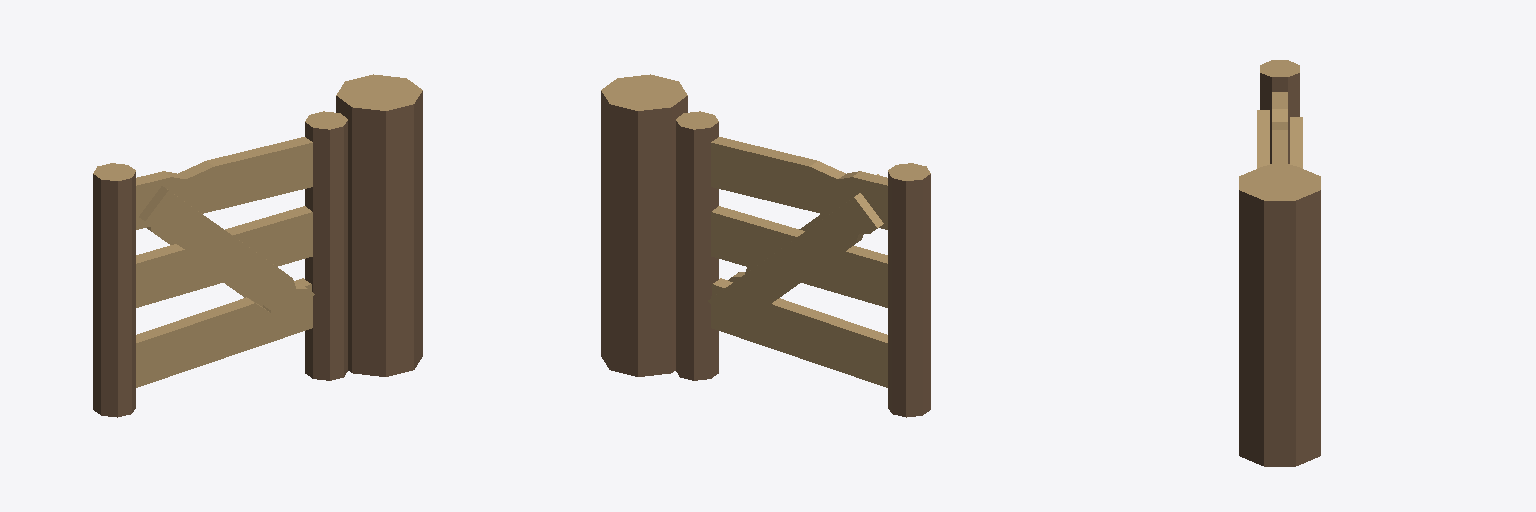
The model's file is Hilly_Prop_Fence_Gate_1.obj.
The picture shows the model from 3 angles: view 1: azimuth 30°, elevation 25°; view 2: azimuth 150°, elevation 25°; view 3: azimuth 270°, elevation 25°; orthographic projection.
Visible parts, largest first — view 1: object3, object5, object1, object6, object8, object4, object2; view 2: object3, object5, object1, object8, object6, object7, object2; view 3: object3, object5, object8, object4, object7.
Part boxes in pixels (left/top/right/bottom): object3: left=336, top=74, right=422, bottom=376; object5: left=93, top=163, right=135, bottom=417; object1: left=305, top=111, right=347, bottom=380; object6: left=136, top=278, right=312, bottom=387; object8: left=136, top=137, right=312, bottom=229; object4: left=139, top=186, right=314, bottom=324; object2: left=136, top=206, right=312, bottom=307; object3: left=601, top=74, right=687, bottom=376; object5: left=888, top=163, right=930, bottom=417; object1: left=676, top=111, right=718, bottom=380; object8: left=711, top=137, right=887, bottom=229; object6: left=711, top=278, right=887, bottom=387; object7: left=708, top=193, right=883, bottom=331; object2: left=711, top=206, right=887, bottom=307; object3: left=1239, top=166, right=1320, bottom=466; object5: left=1260, top=60, right=1299, bottom=163; object8: left=1272, top=92, right=1287, bottom=163; object4: left=1257, top=110, right=1269, bottom=168; object7: left=1290, top=117, right=1302, bottom=168.
Size of the model in its own units: 1.12 by 0.9 by 0.25.